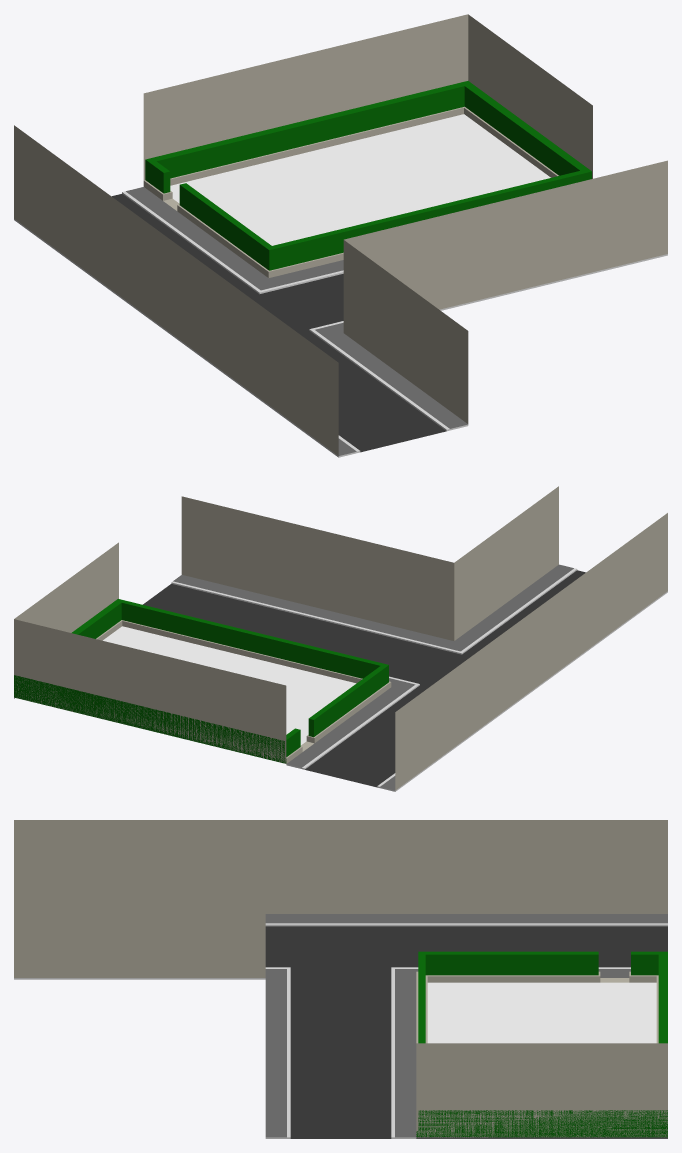
File: City.glb
The picture shows the model from 3 angles, top to bottom: view 1: azimuth 30°, elevation 25°; view 2: azimuth 150°, elevation 25°; view 3: azimuth 270°, elevation 25°; orthographic projection. The views are drawn at different scales.
Parts seen in each view (by area): view 1: Wall, Parc, Base; view 2: Wall, Parc, Base; view 3: Wall, Base, Parc.
Part boxes in pixels (<box>): Wall: <box>14,14,667,455</box>; Parc: <box>143,81,591,277</box>; Base: <box>14,187,667,457</box>; Wall: <box>14,486,667,790</box>; Parc: <box>14,599,391,763</box>; Base: <box>14,564,667,791</box>; Wall: <box>14,820,667,1137</box>; Base: <box>14,914,667,1138</box>; Parc: <box>416,951,667,1137</box>.
Size of the model in its own units: 30.02 by 6 by 37.16.
Materials: 7 (1 with a texture image).
